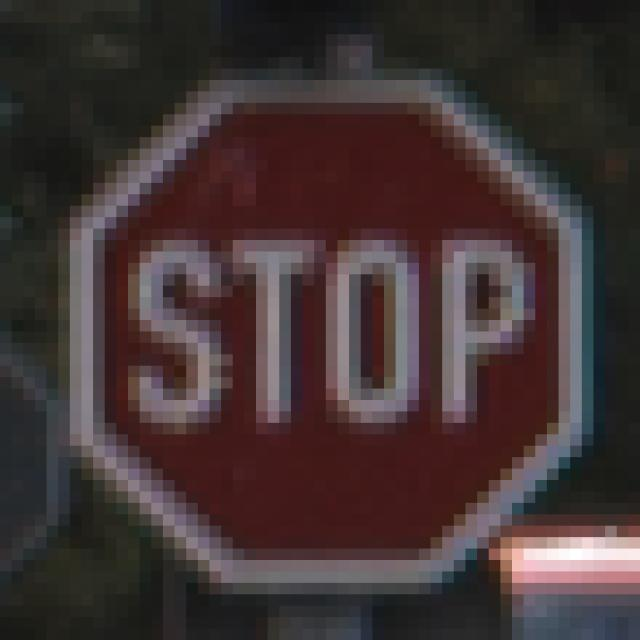STOP: (59, 69, 583, 584)
